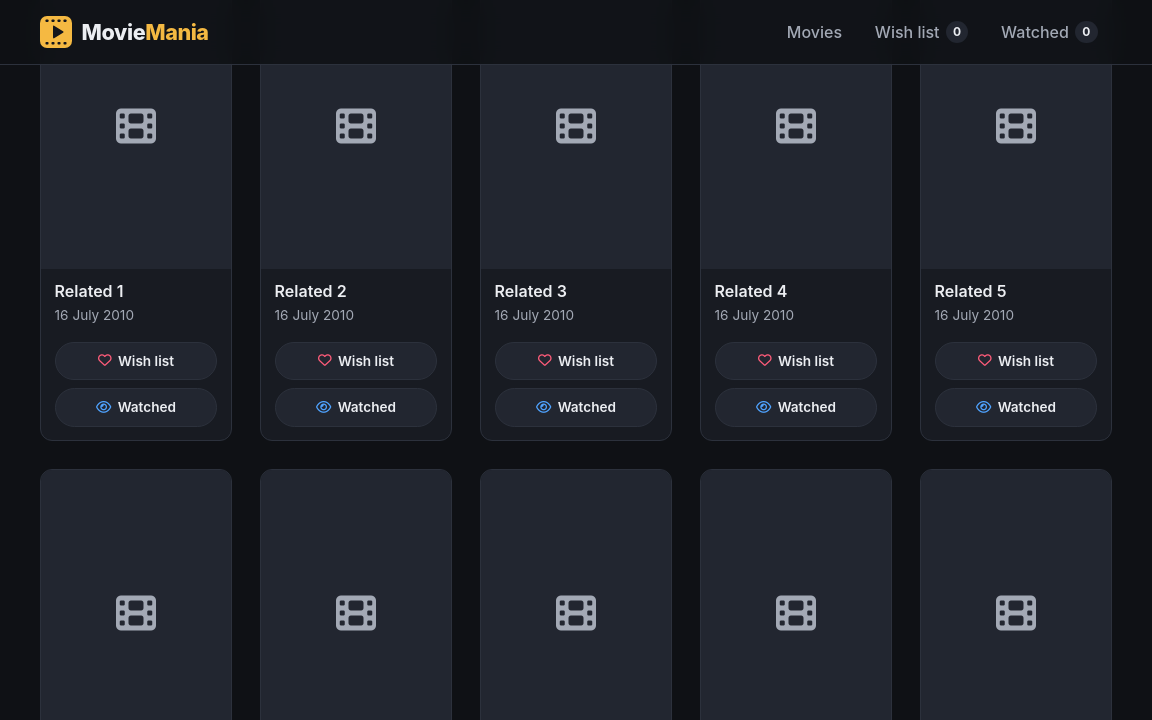
Test: Movie detail page › lets you save a related movie and shows its title under the section heading
This screenshot has width=1152, height=720.
(page scrolled)
Expected: the heading "Related 1" is shown, [55, 281, 123, 301]
Click the button named "Wish list, Related 1".
click(136, 361)  # box [55, 342, 217, 380]
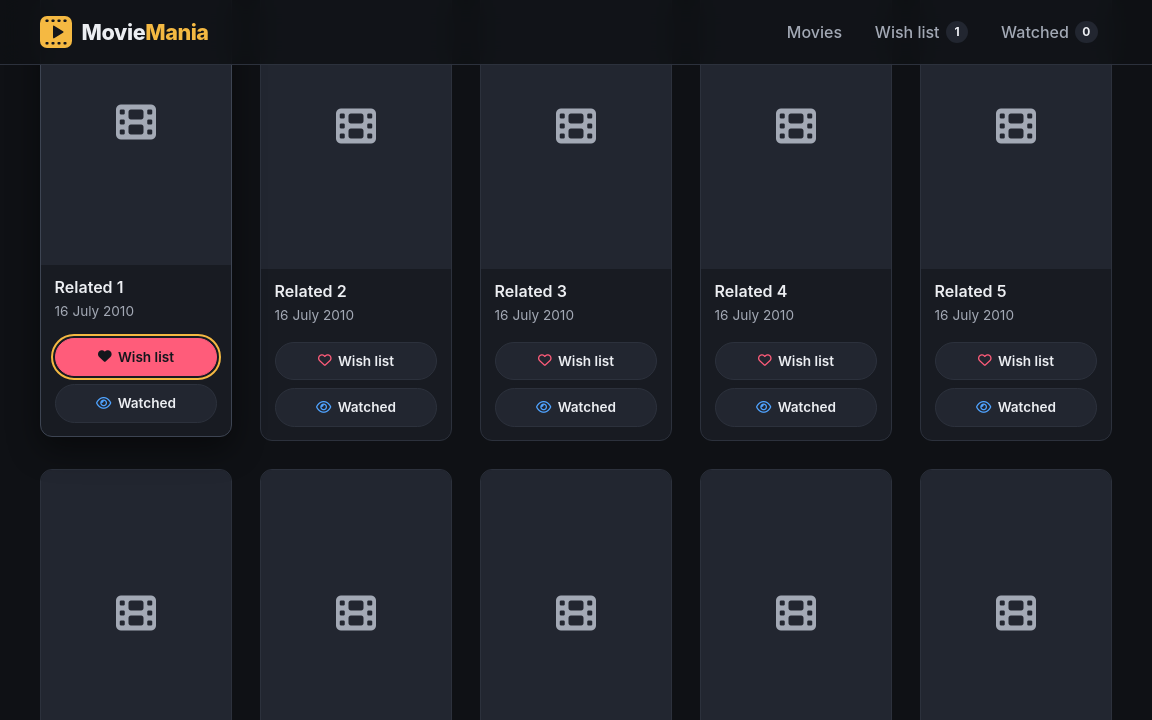
Expected: the link "Wish list 1" is shown, [875, 21, 968, 43]
Now the button named "Wish list, Related 1" is pressed, box [55, 338, 217, 376]
